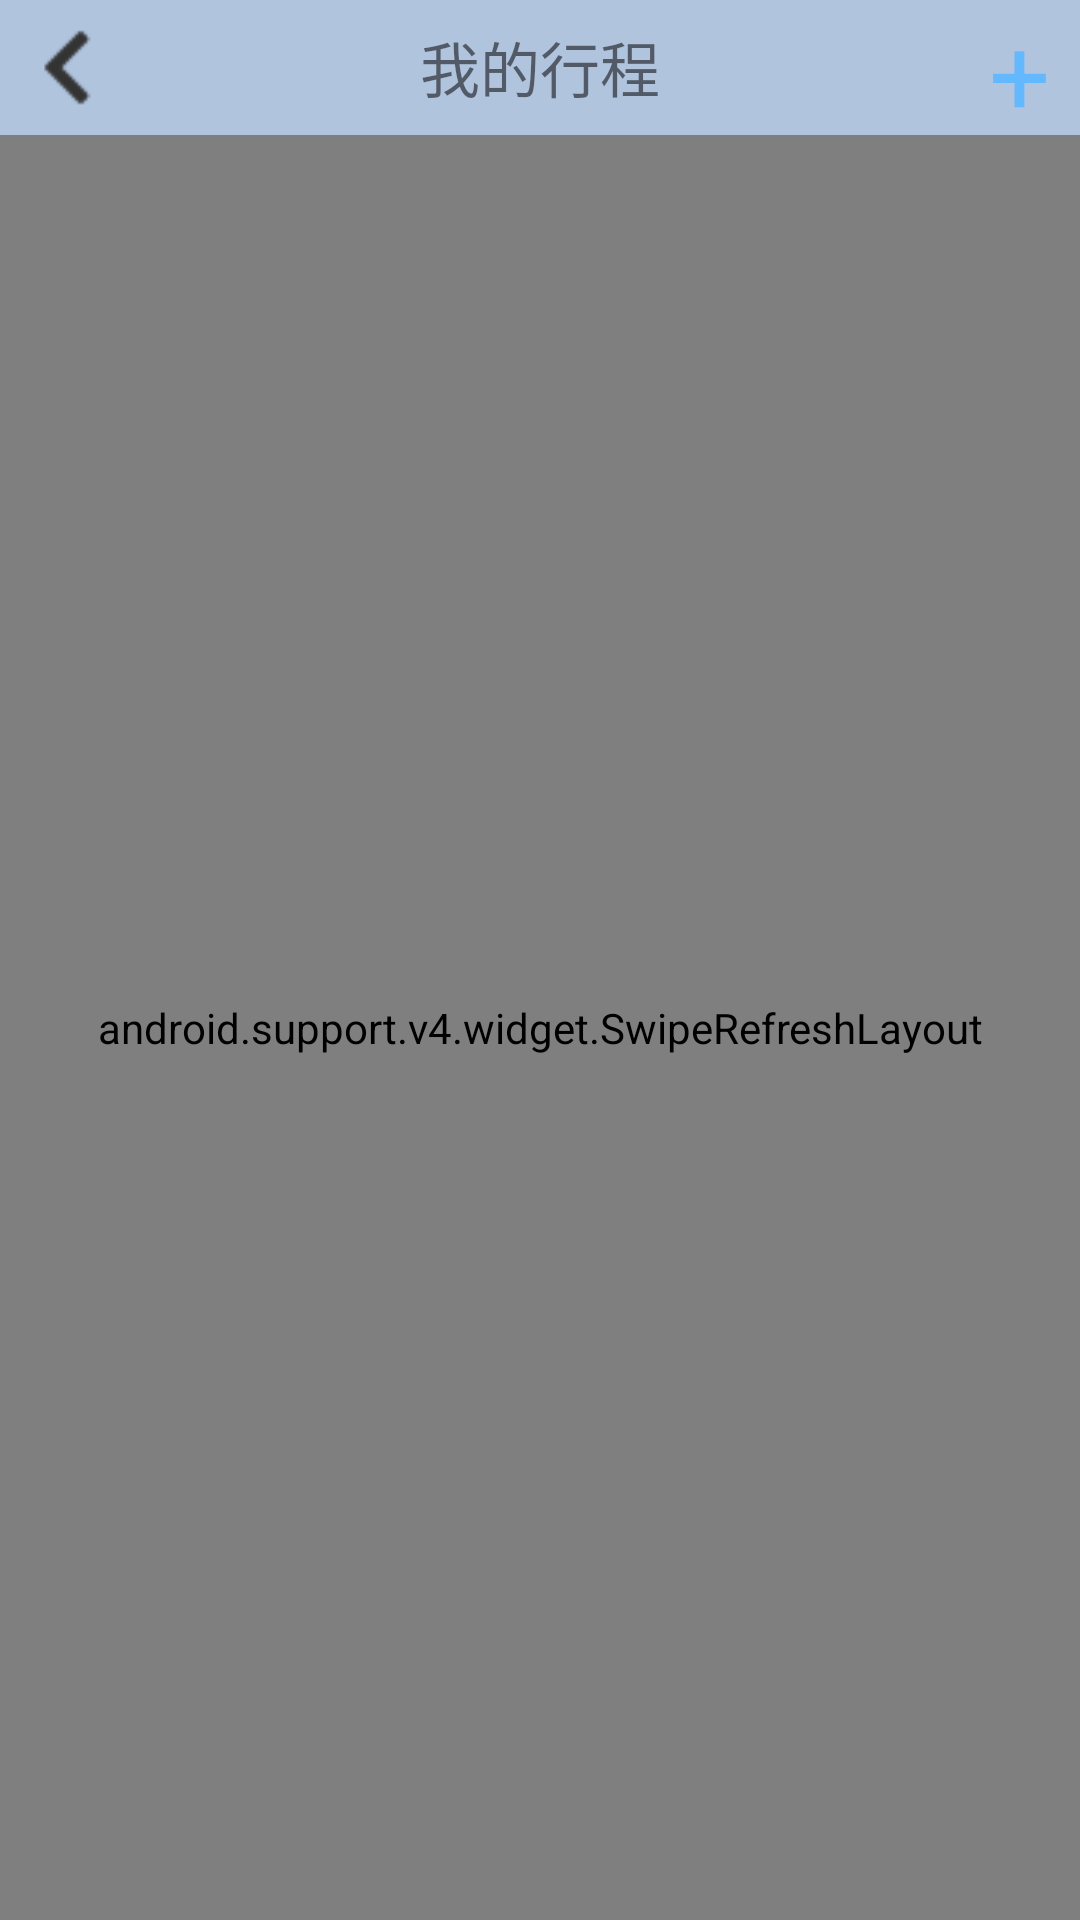

Icon bounding boxes for this 1080w x 1920h phone screenshot, format (x1, y1, x2, y2):
left arrow: (44, 31, 90, 104)
